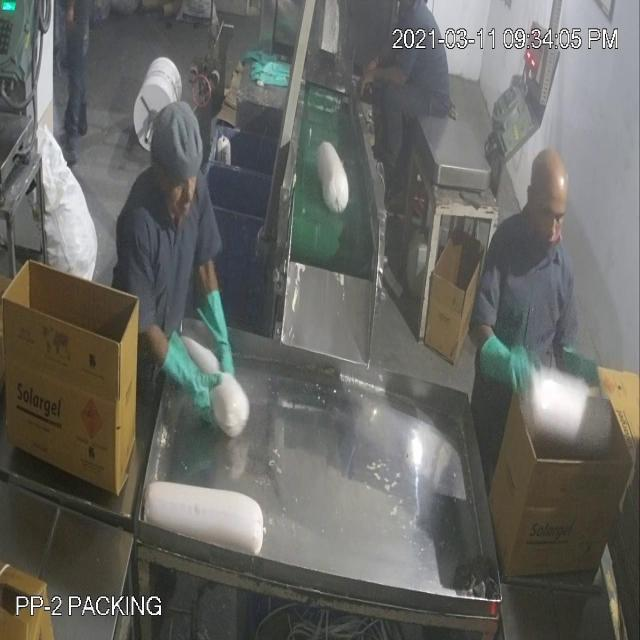Gloves: (62, 50, 507, 382)
